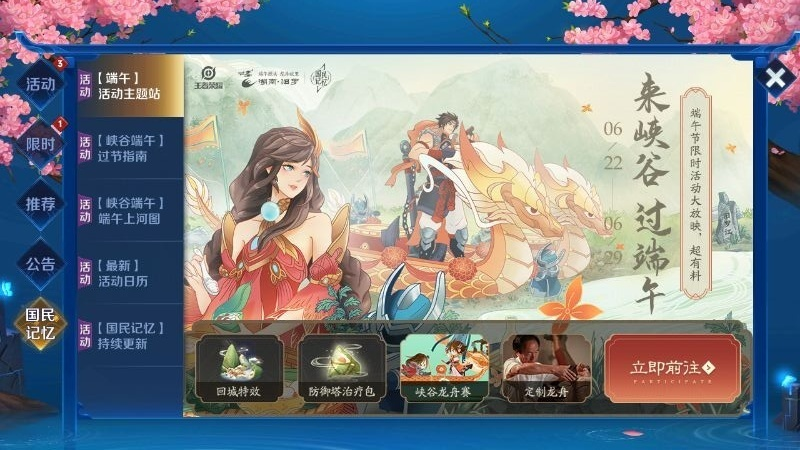close: (764, 64, 789, 90)
tag: (77, 118, 175, 172), (74, 181, 170, 233), (79, 313, 168, 356), (75, 253, 160, 292), (24, 246, 60, 280), (22, 71, 58, 97), (24, 191, 57, 219), (24, 131, 60, 155)
